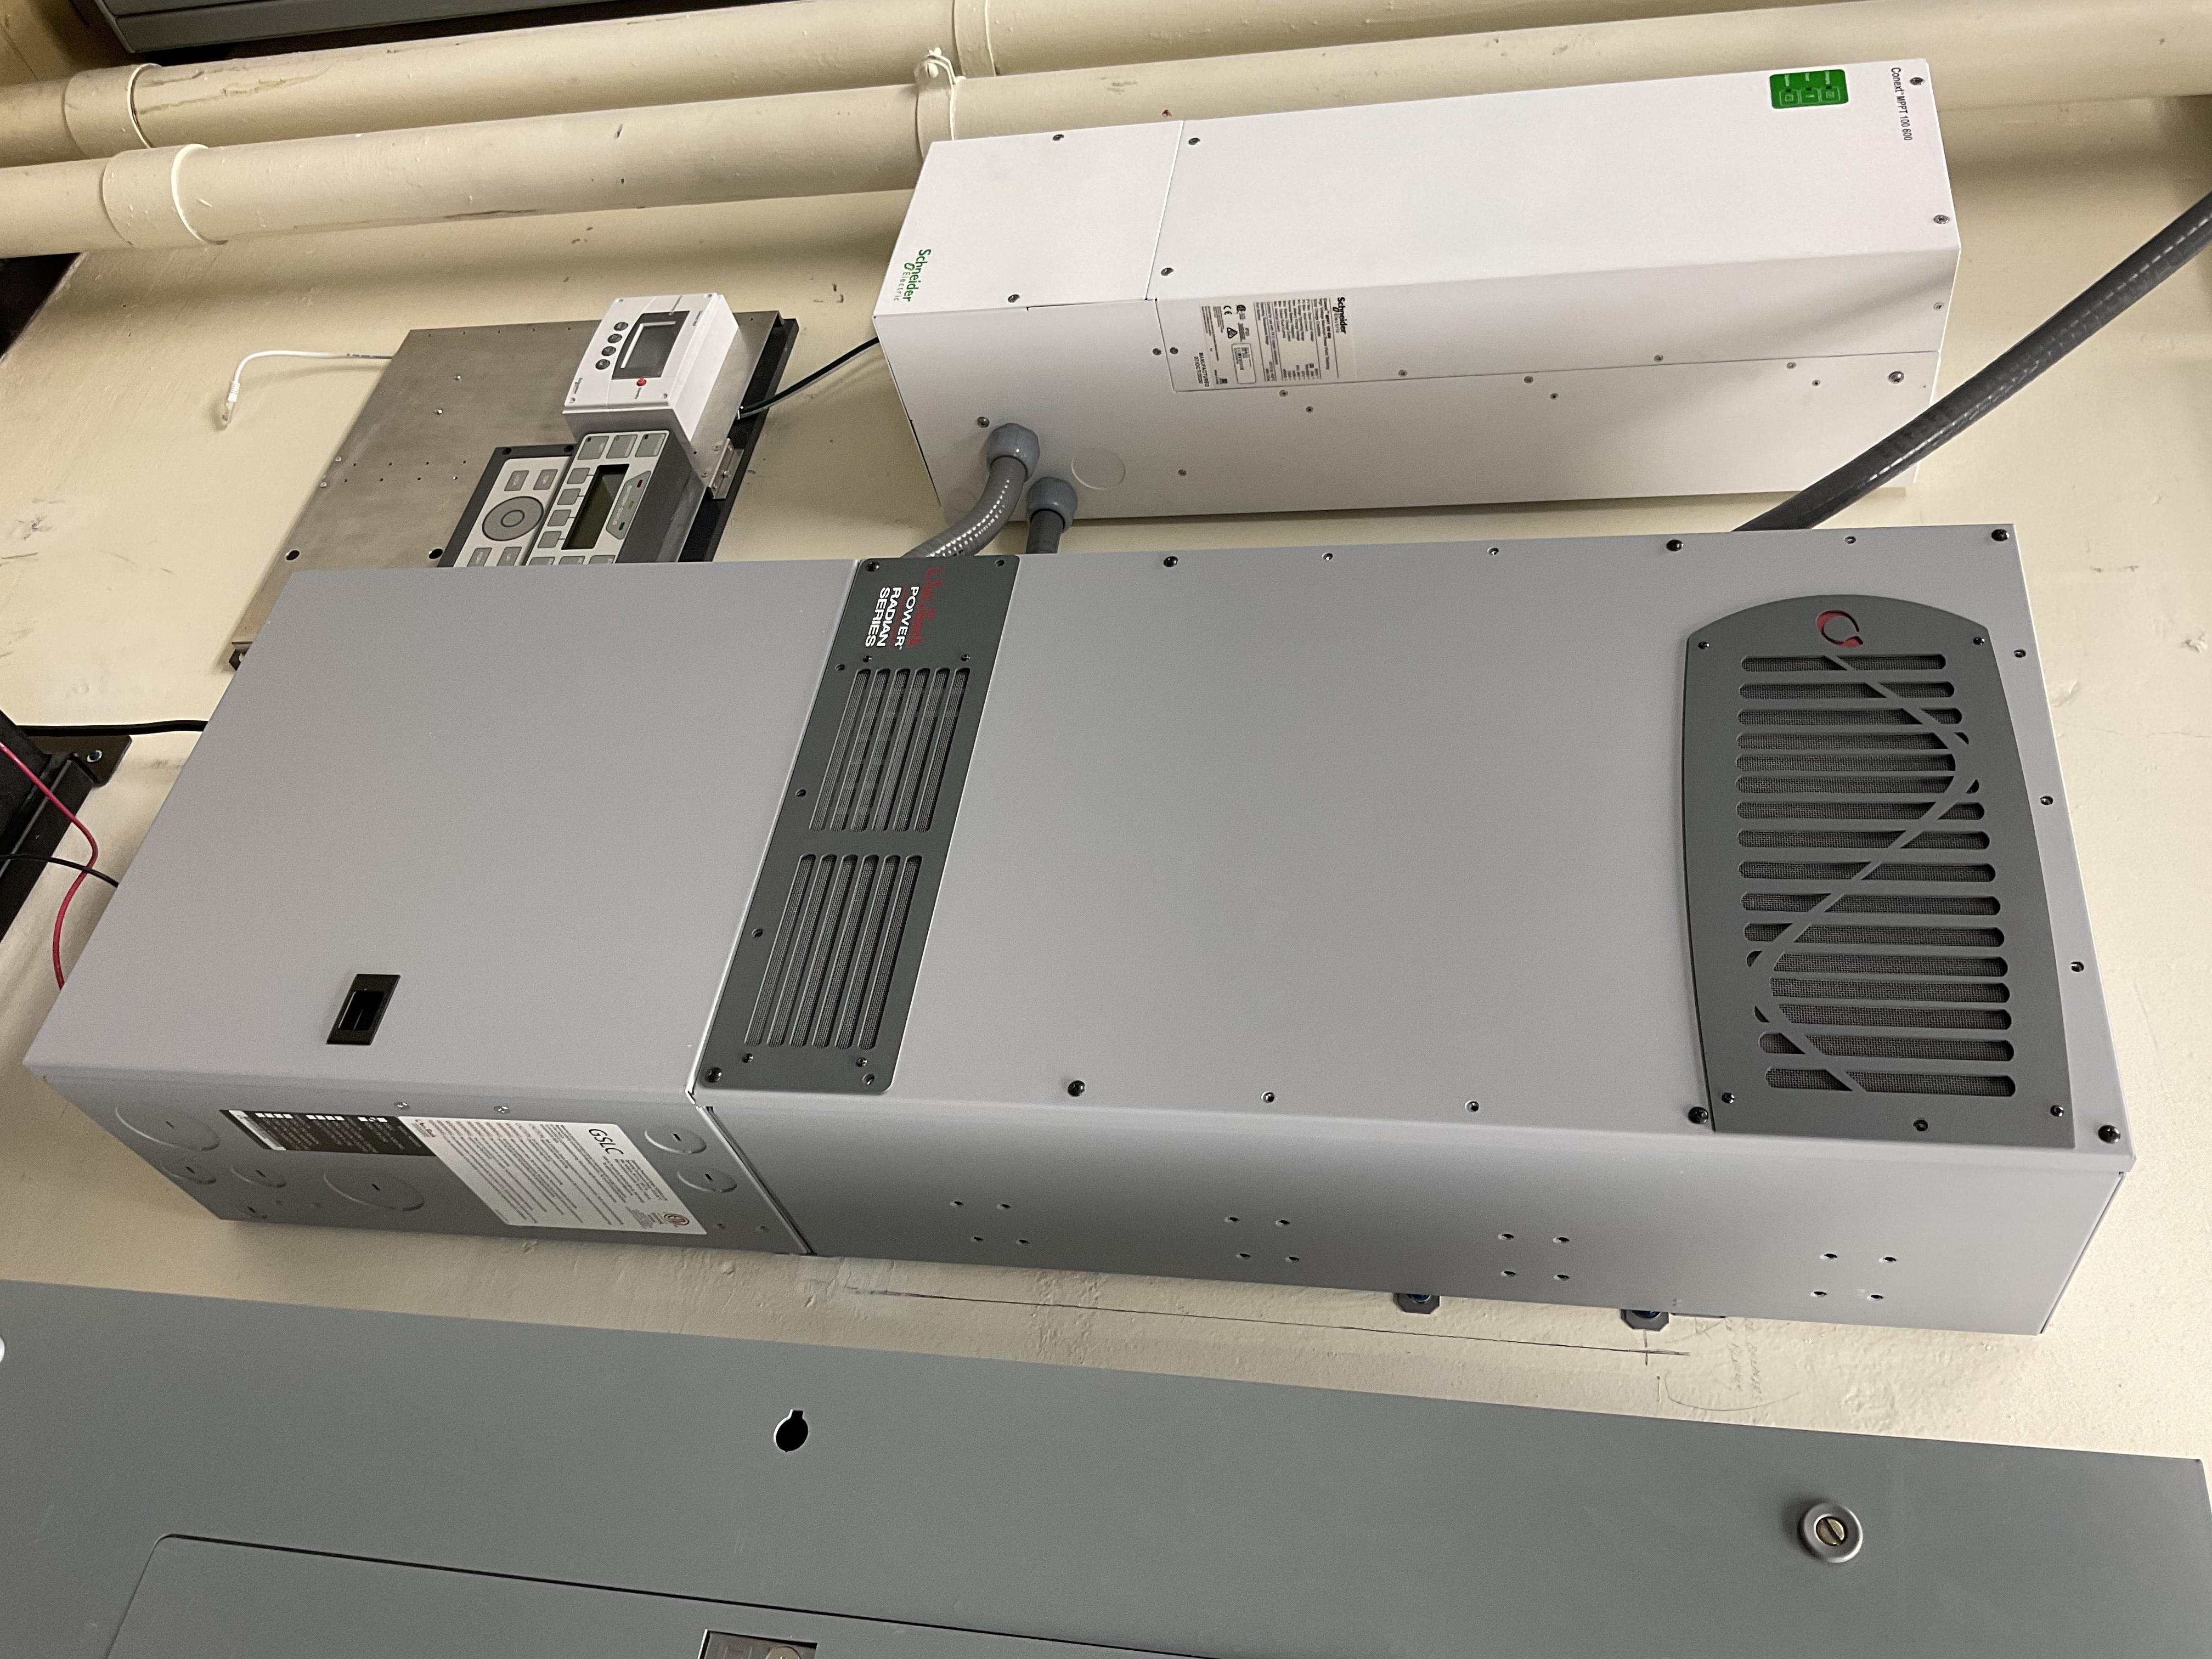charge_controller: (876, 58, 1947, 519)
inverter: (23, 519, 2135, 1340)
